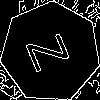Z: (25, 27, 79, 73)
